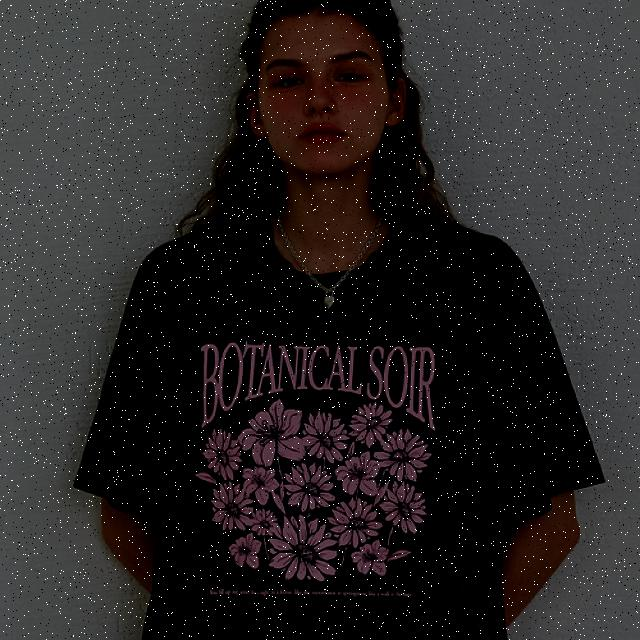Blouse_deep: (78, 207, 599, 640)
